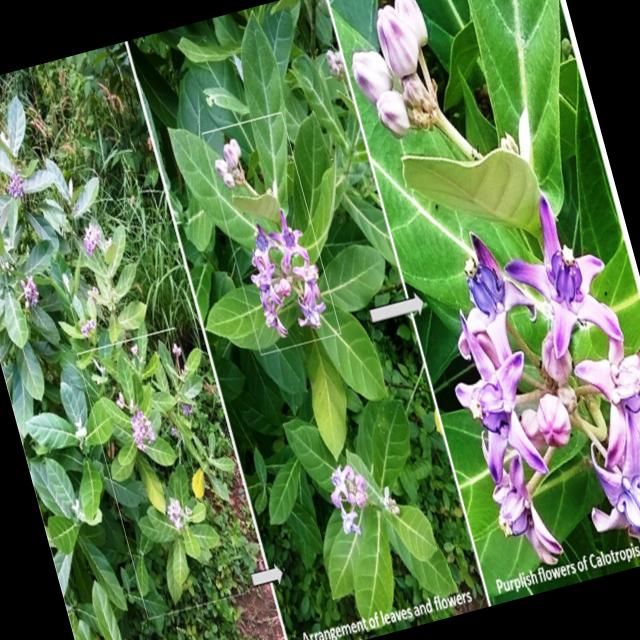Poisonous-Calatropis: (408, 173, 640, 576), (0, 73, 169, 439), (260, 362, 480, 632), (22, 394, 259, 640), (199, 123, 378, 404), (333, 0, 472, 180)
